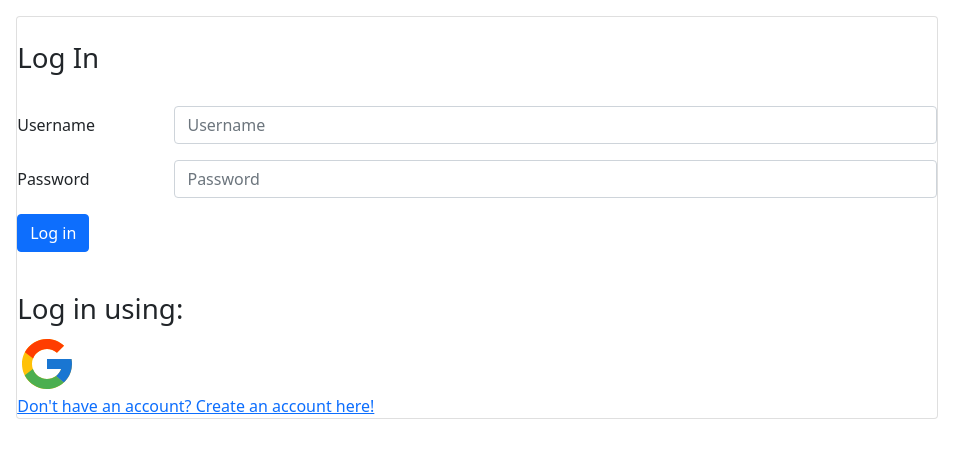
Test: local account access › shows a clear message for invalid login credentials
In the field labelled "Username": (556, 125) [174, 106, 937, 144], type "alex"
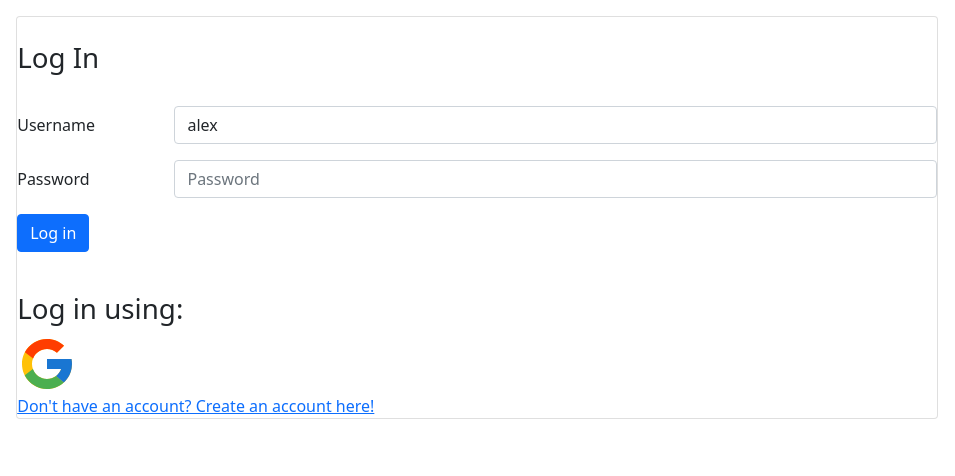
In the password field labelled "Password": (556, 179) [174, 160, 937, 198], type "wrong-password"
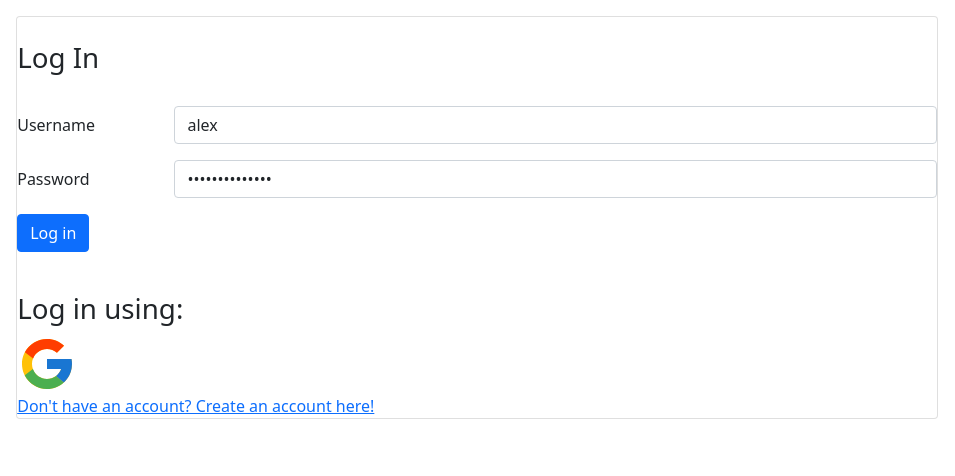
Click the button "Log in": (53, 233) [17, 214, 89, 252]
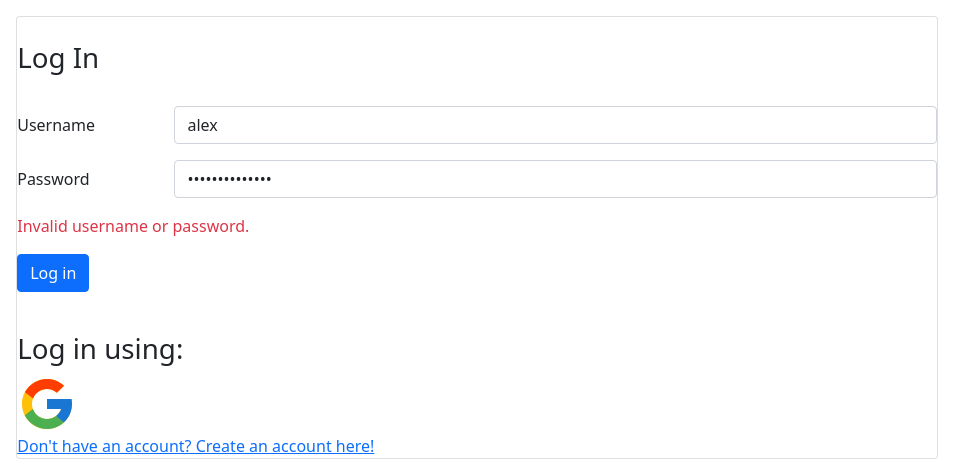
Expected: the text "Invalid username or password." is shown, [17, 215, 249, 237]
